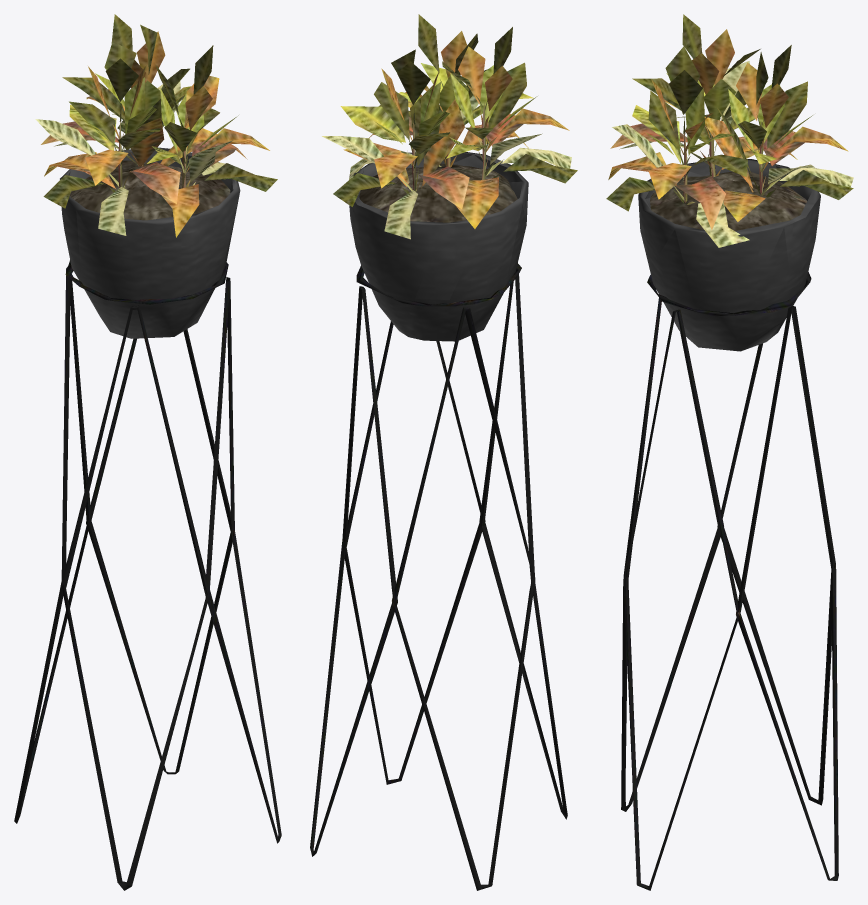
Rendered from Plant0008.obj.
The picture shows the model from 3 angles, left to right: view 1: azimuth 30°, elevation 25°; view 2: azimuth 150°, elevation 25°; view 3: azimuth 270°, elevation 25°; orthographic projection.
Size of the model in its own units: 0.355 by 1.31 by 0.363.
Materials: 1 (1 with a texture image).
